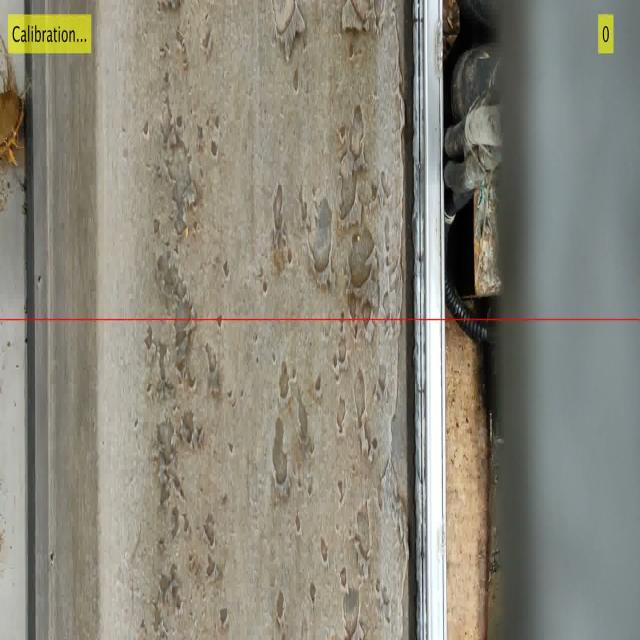Coconut-Conveyor-Belt: (0, 47, 32, 141)
